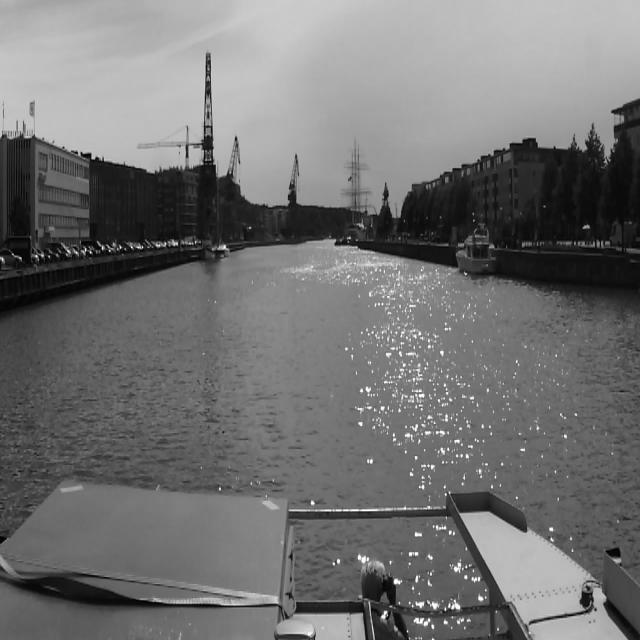ship: (339, 125, 373, 251), (456, 220, 496, 274), (214, 161, 230, 257), (202, 239, 214, 260)
